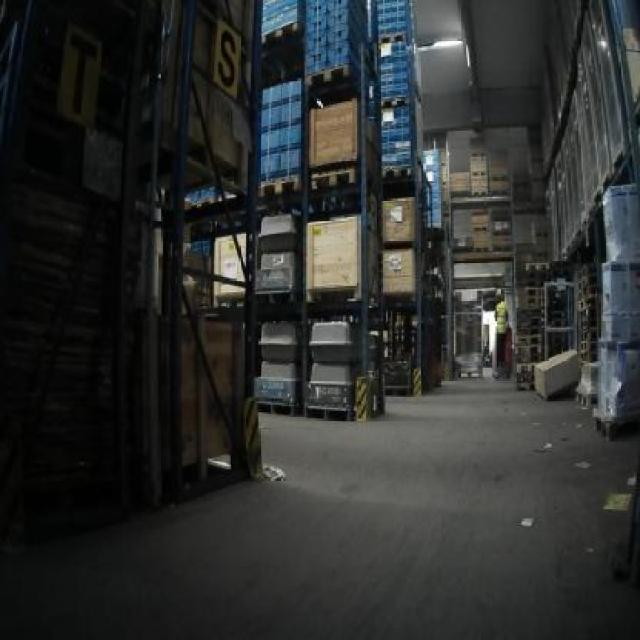pallet: (255, 170, 368, 197), (304, 65, 361, 85)
